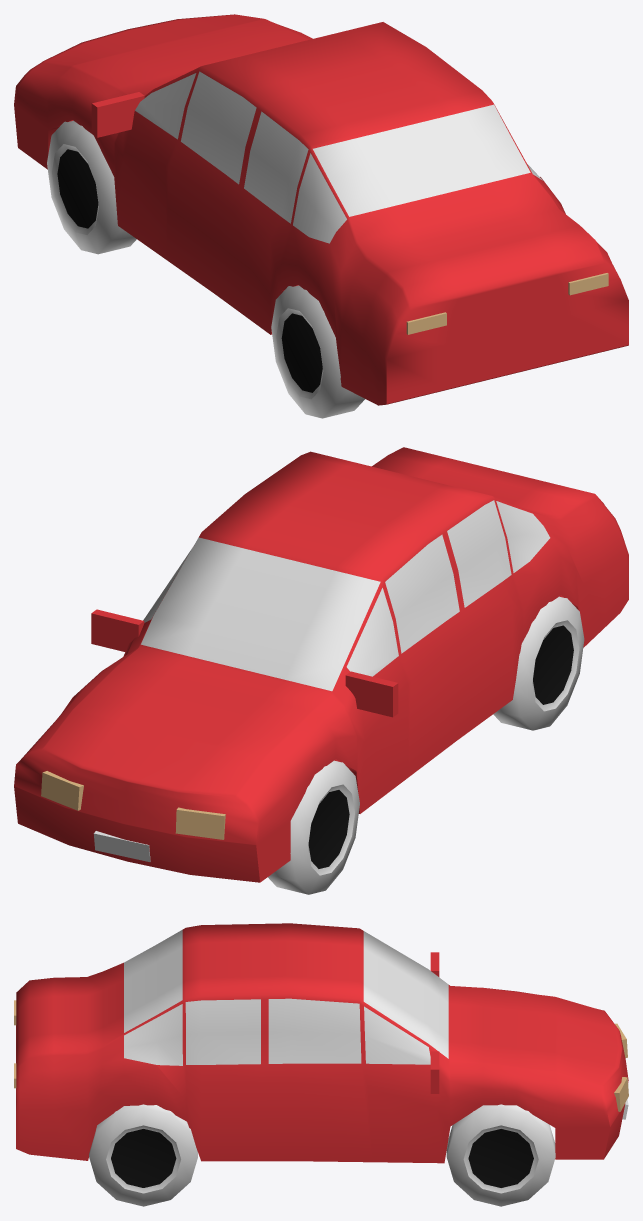
The model's file is car.fbx.
The picture shows the model from 3 angles, top to bottom: view 1: azimuth 30°, elevation 25°; view 2: azimuth 150°, elevation 25°; view 3: azimuth 270°, elevation 25°; orthographic projection. The views are drawn at different scales.
Visible parts, largest first — view 1: car; view 2: car; view 3: car.
Part boxes in pixels (<box>): car: <box>14,14,628,418</box>; car: <box>14,447,628,894</box>; car: <box>14,923,628,1206</box>.
Bounding box in the file's own units: 371 × 291 × 822.
